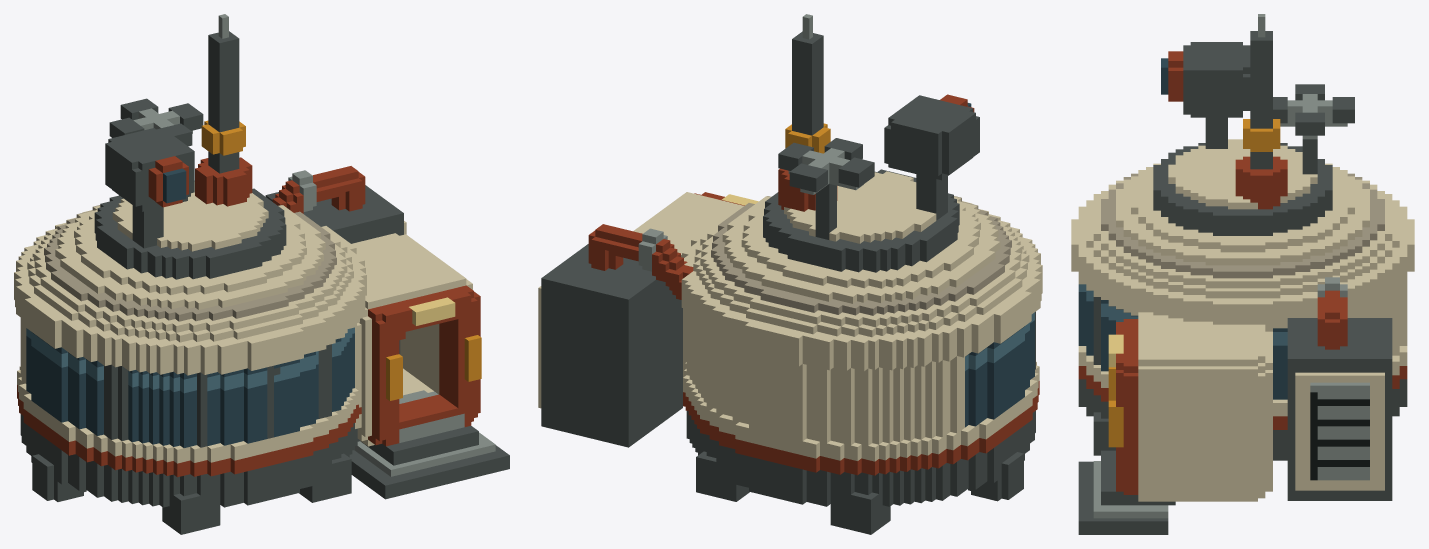
Rendered from volcano_observatory.glb.
3 views of the same model, side by side, from view 1: azimuth 30°, elevation 25°; view 2: azimuth 150°, elevation 25°; view 3: azimuth 270°, elevation 25° (orthographic). The views are drawn at different scales.
Parts seen in each view (by area): view 1: volcano_observatory; view 2: volcano_observatory; view 3: volcano_observatory.
Boxes of the visible parts, <box> form: volcano_observatory: <box>14,14,509,534</box>; volcano_observatory: <box>538,14,1042,534</box>; volcano_observatory: <box>1071,14,1414,534</box>.
Bounding box in the file's own units: 6.1 × 6.3 × 4.6.
